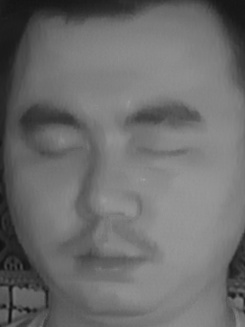blink: (35, 131, 89, 167), (139, 131, 190, 169)
mouth: (65, 233, 145, 284)
